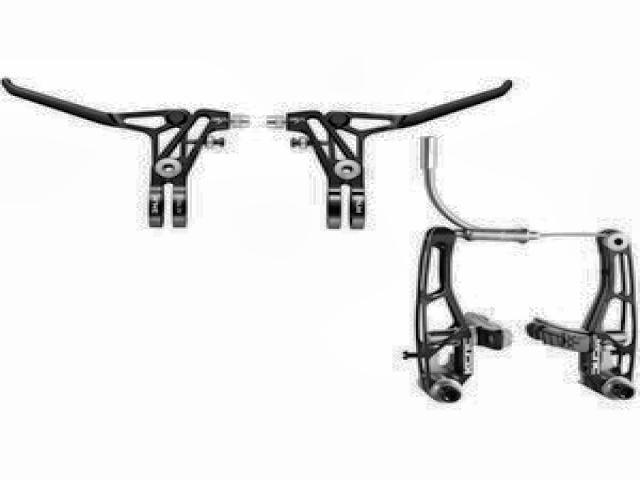rim_brake: (395, 224, 640, 407)
